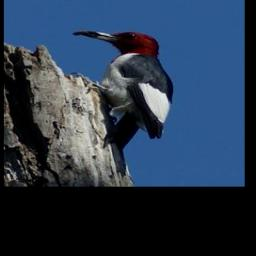Woodpecker: (73, 30, 174, 177)
